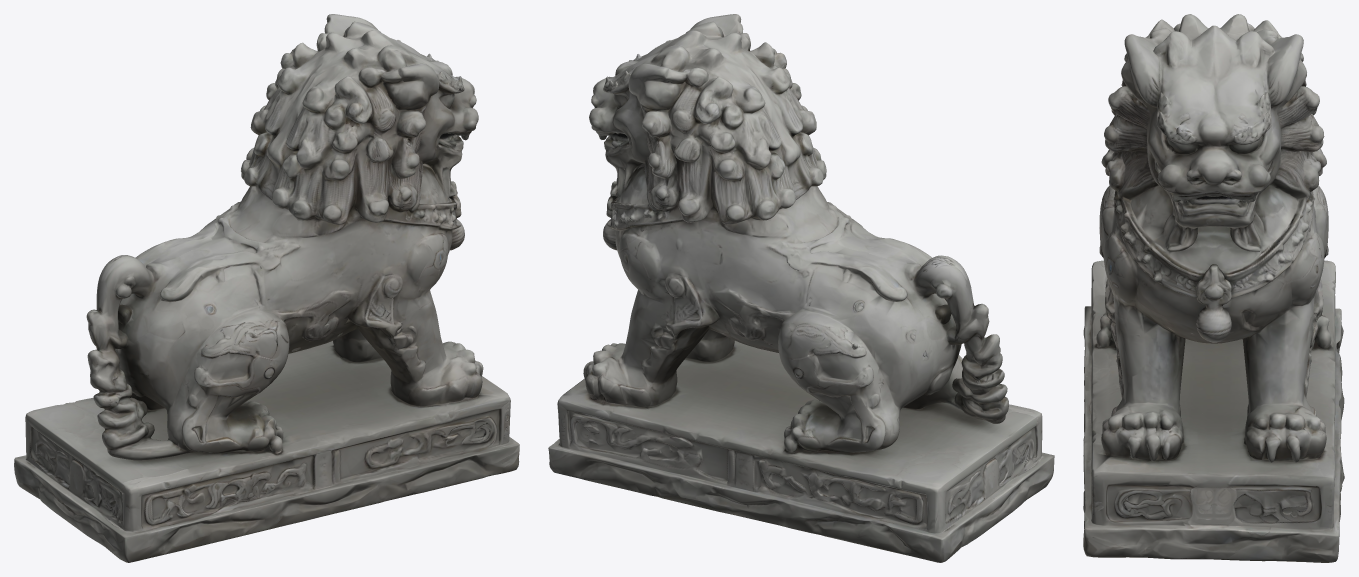
Rendered from plaza-statue-lion.glb.
The picture shows the model from 3 angles, left to right: view 1: azimuth 30°, elevation 25°; view 2: azimuth 150°, elevation 25°; view 3: azimuth 270°, elevation 25°; orthographic projection. The views are drawn at different scales.
Visible parts, largest first — view 1: tripo_node_b4cd4e23-7085-42b4-9a1d-224213c91223; view 2: tripo_node_b4cd4e23-7085-42b4-9a1d-224213c91223; view 3: tripo_node_b4cd4e23-7085-42b4-9a1d-224213c91223.
Boxes of the visible parts, bbox=[...] form: tripo_node_b4cd4e23-7085-42b4-9a1d-224213c91223: bbox=[14, 14, 519, 562]; tripo_node_b4cd4e23-7085-42b4-9a1d-224213c91223: bbox=[548, 14, 1054, 562]; tripo_node_b4cd4e23-7085-42b4-9a1d-224213c91223: bbox=[1083, 14, 1344, 562].
Size of the model in its own units: 2.99 by 3 by 1.46.
Materials: 1 (1 with a texture image).
